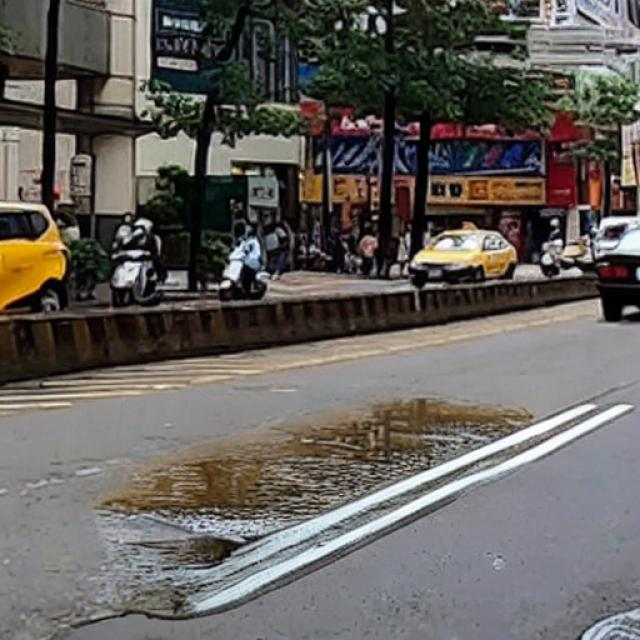puddle: (97, 394, 526, 596)
